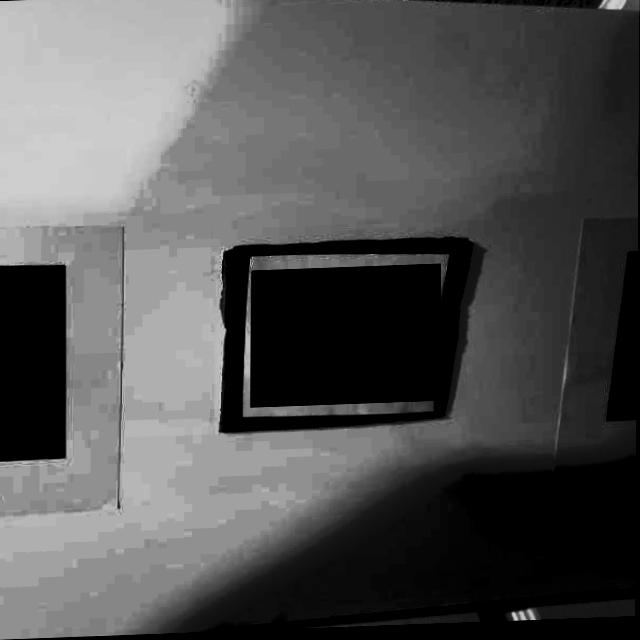qr_code: (252, 266, 441, 409)
